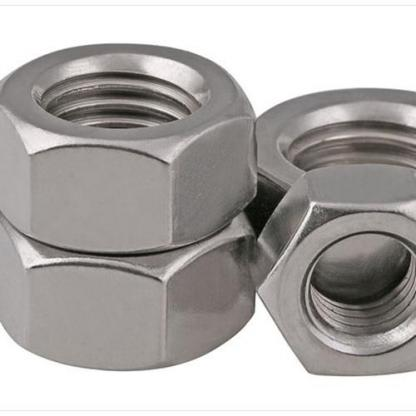FOD: (0, 40, 260, 254), (0, 207, 258, 370), (251, 86, 415, 311), (246, 161, 415, 378)
